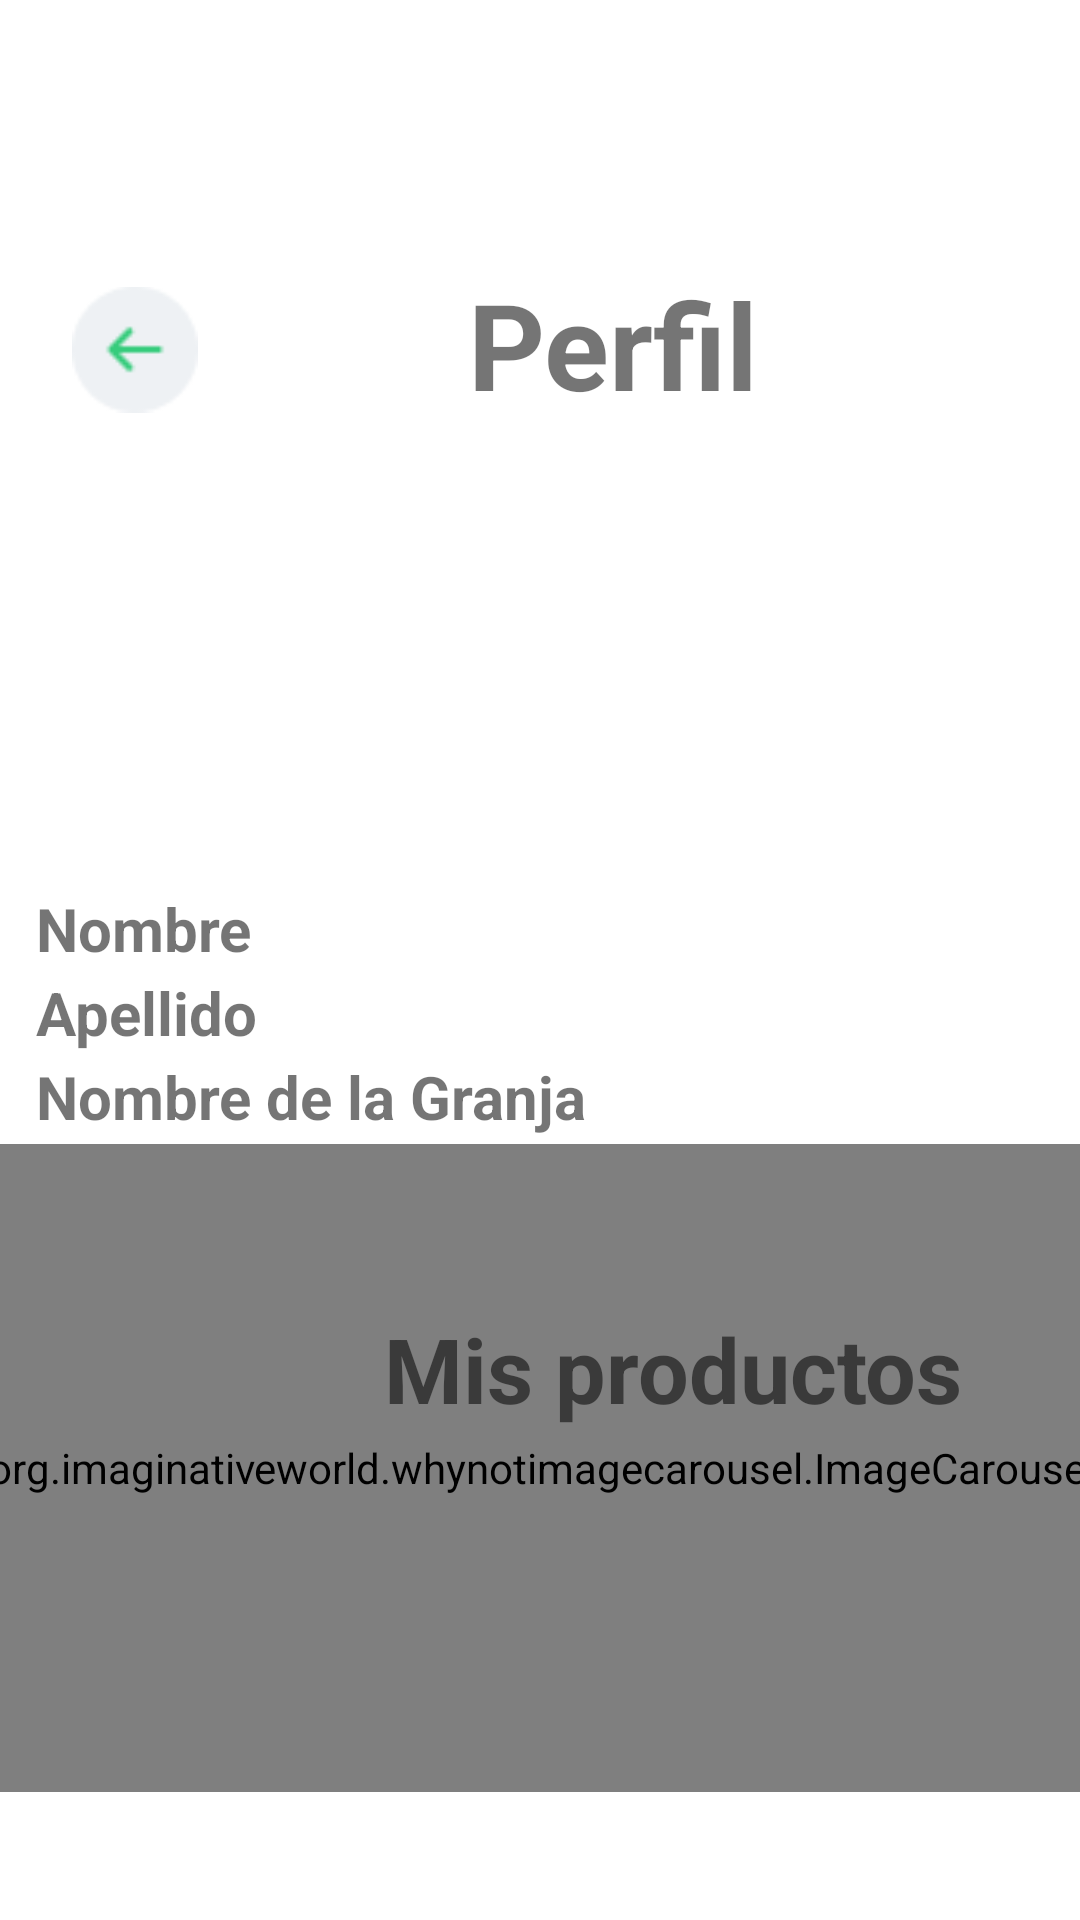

Icons on this 1080px×1920px Android screen, each with its box as box=[x1, y1, x2, y2]:
Regresar: box=[72, 287, 198, 413]
